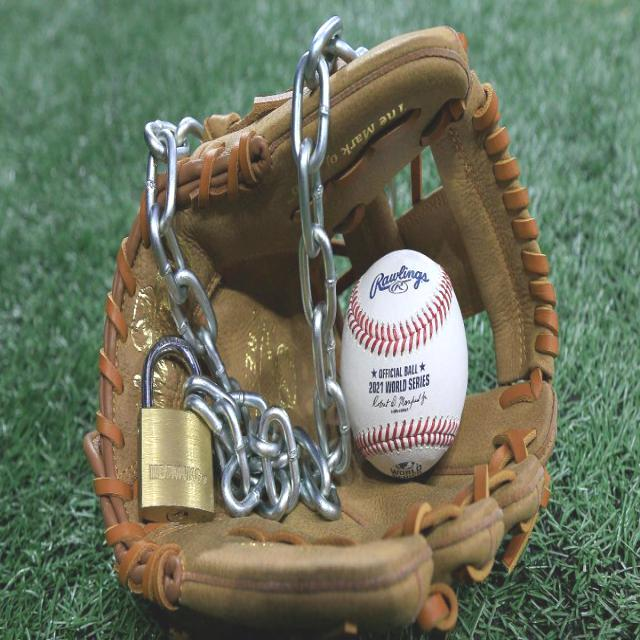sports ball: (338, 247, 470, 487)
